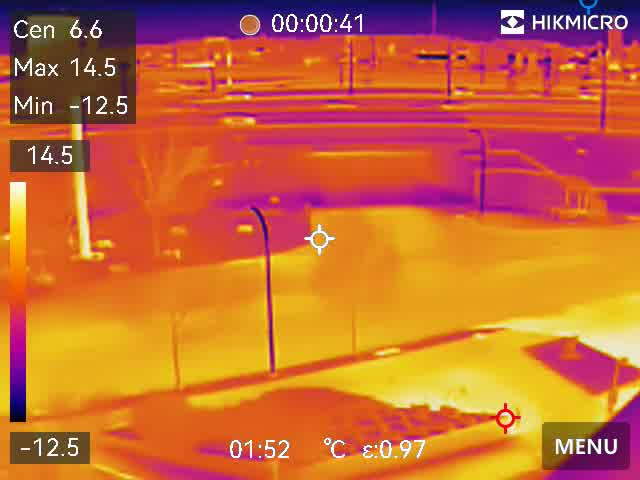vehicle: (216, 110, 259, 128), (221, 86, 255, 104), (577, 88, 604, 102)
